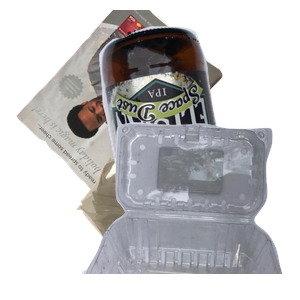glass: (97, 24, 300, 204)
paper: (14, 10, 229, 190)
plastic: (80, 120, 300, 300)
trash: (74, 148, 273, 300)
